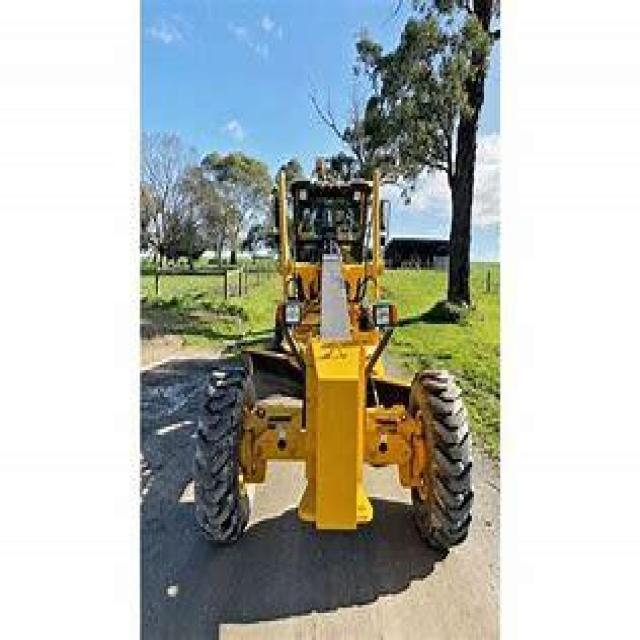buldozerpayloadergrader: (192, 152, 480, 564)
